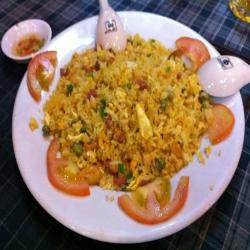rice: (43, 41, 211, 185)
